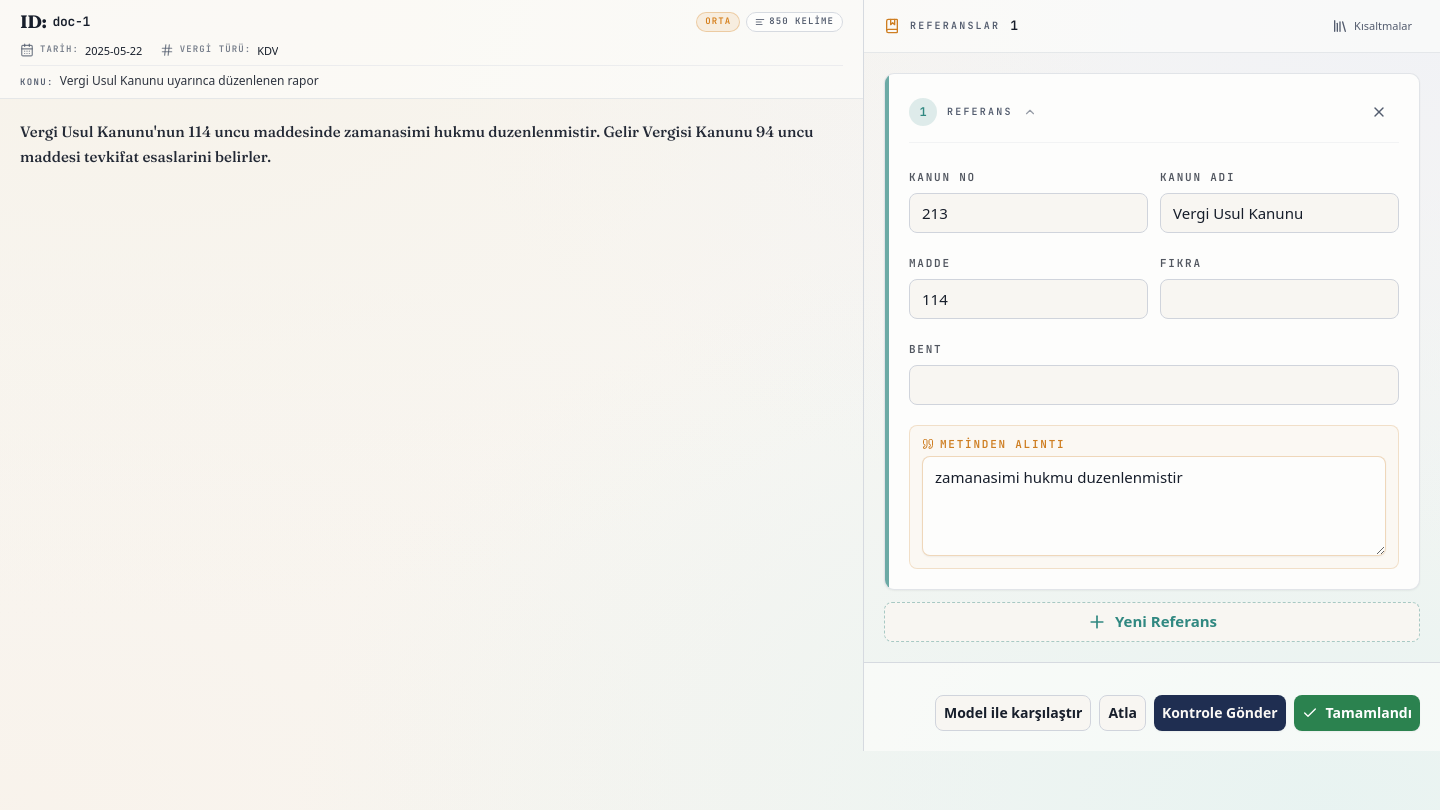
Scenario: AnnotateDoc quality audit › recovers softly from 409 audit_stale by re-auditing and reopening the panel
The width and height of the screenshot is (1440, 810).
Click the button "Tamamlandı".
click(1357, 713)  # box top-left (1294, 695), bottom-right (1420, 731)
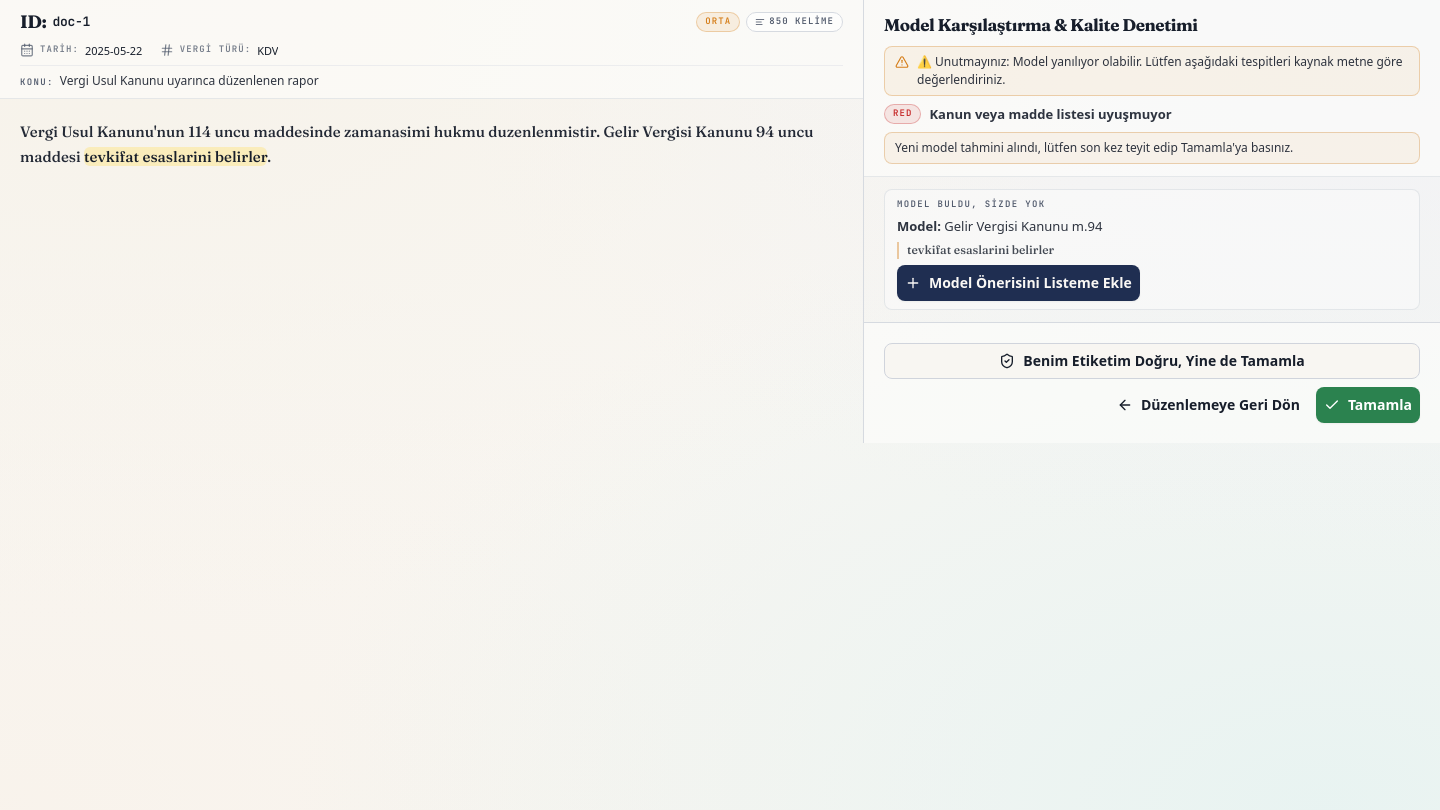
Expected: the message shows "Yeni model tahmini alındı", top-left (895, 140), bottom-right (1293, 156)
Expected: the heading "Model Karşılaştırma & Kalite Denetimi" is shown, top-left (884, 14), bottom-right (1198, 35)
